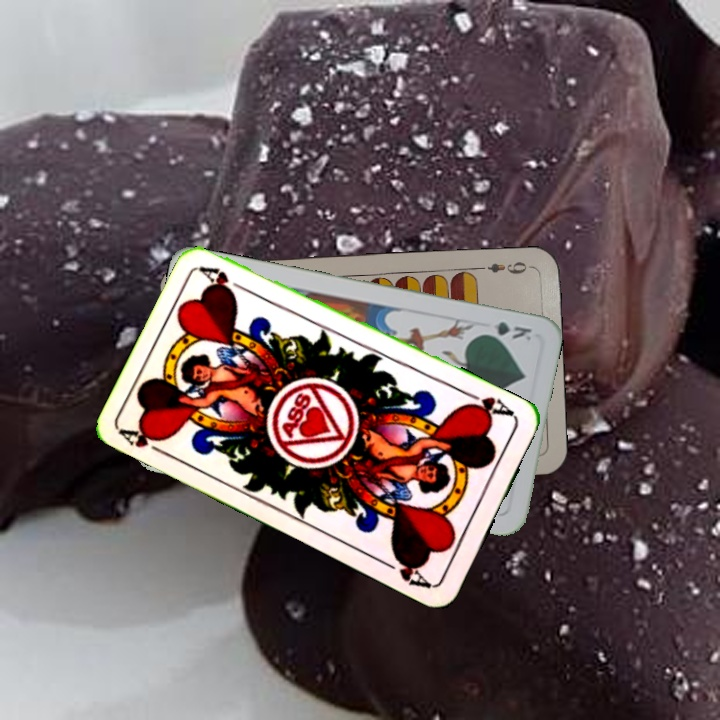E9: (474, 257, 533, 277)
GK: (477, 317, 534, 343)
HA: (117, 422, 174, 460), (459, 388, 517, 421)
